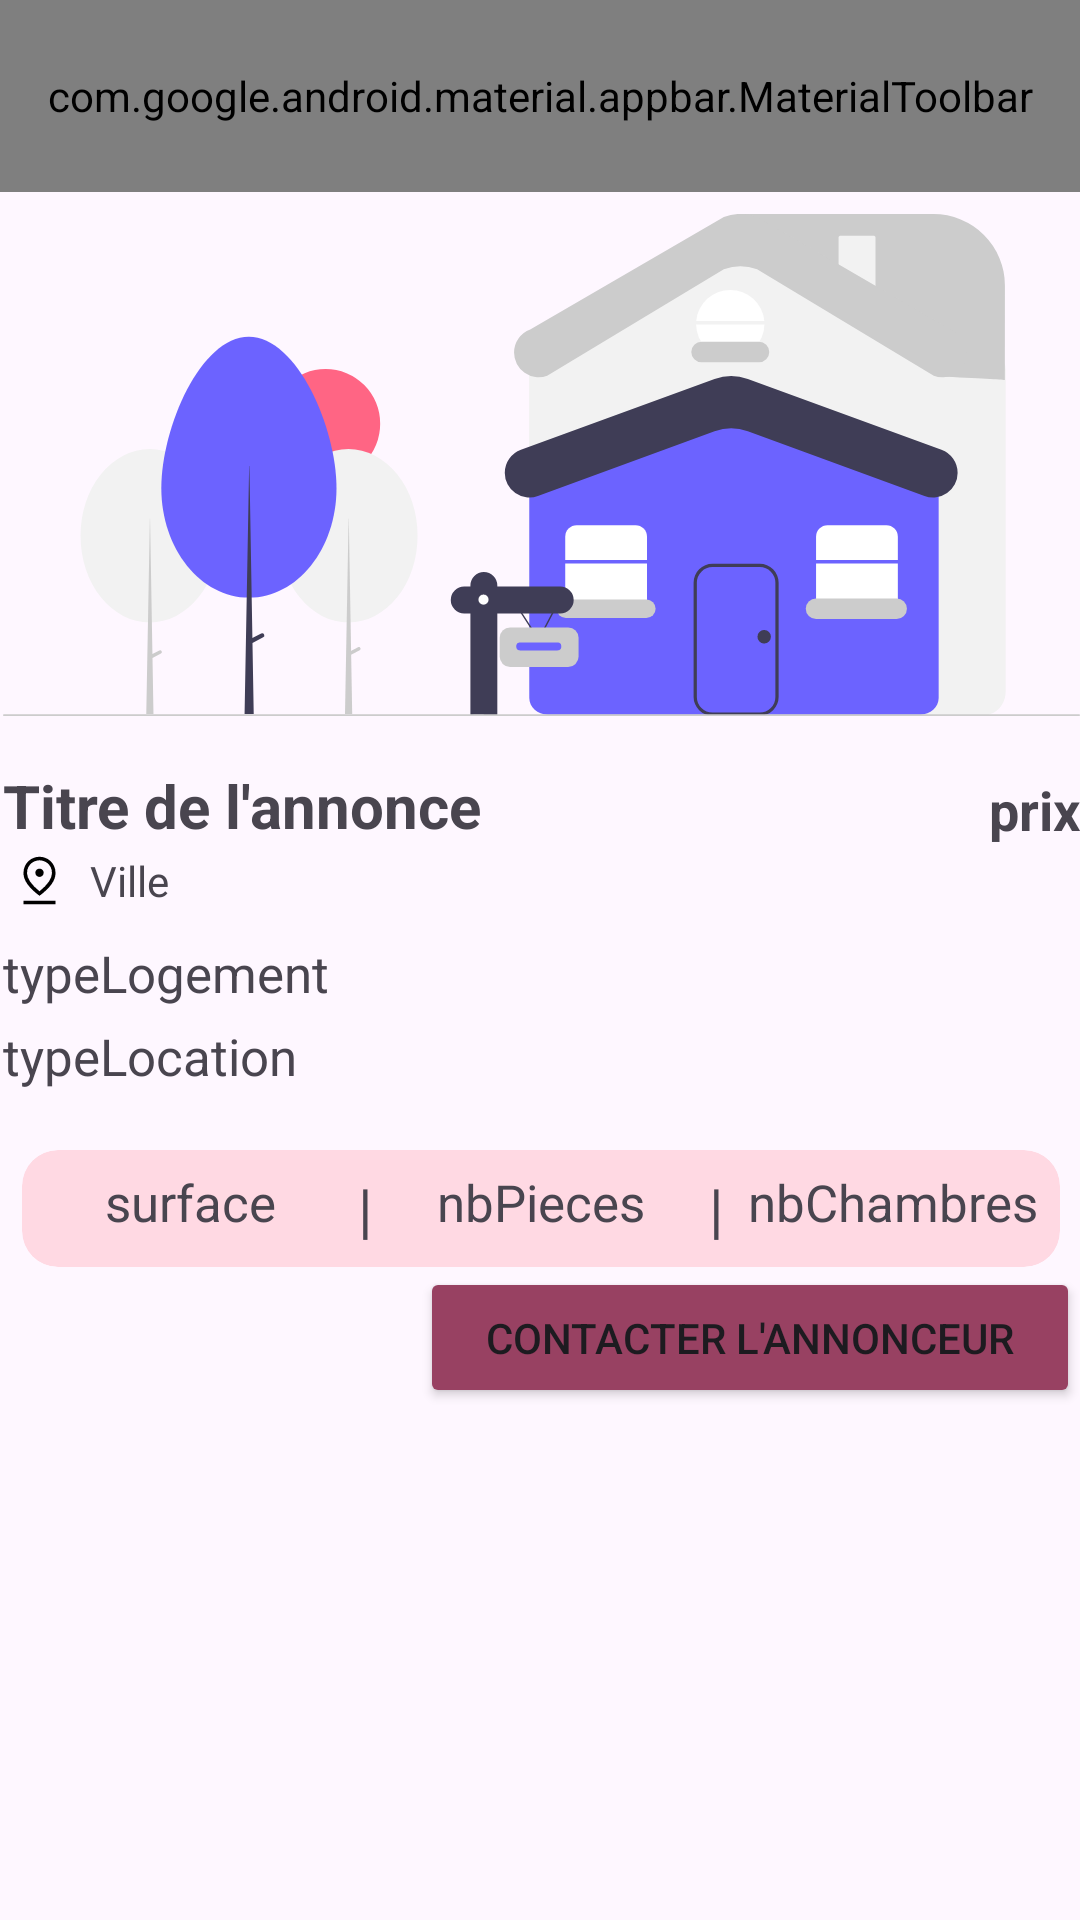

Where to tap for icons on this 1080×1920 app screen, as [x,y]:
lieu: [39,880]
